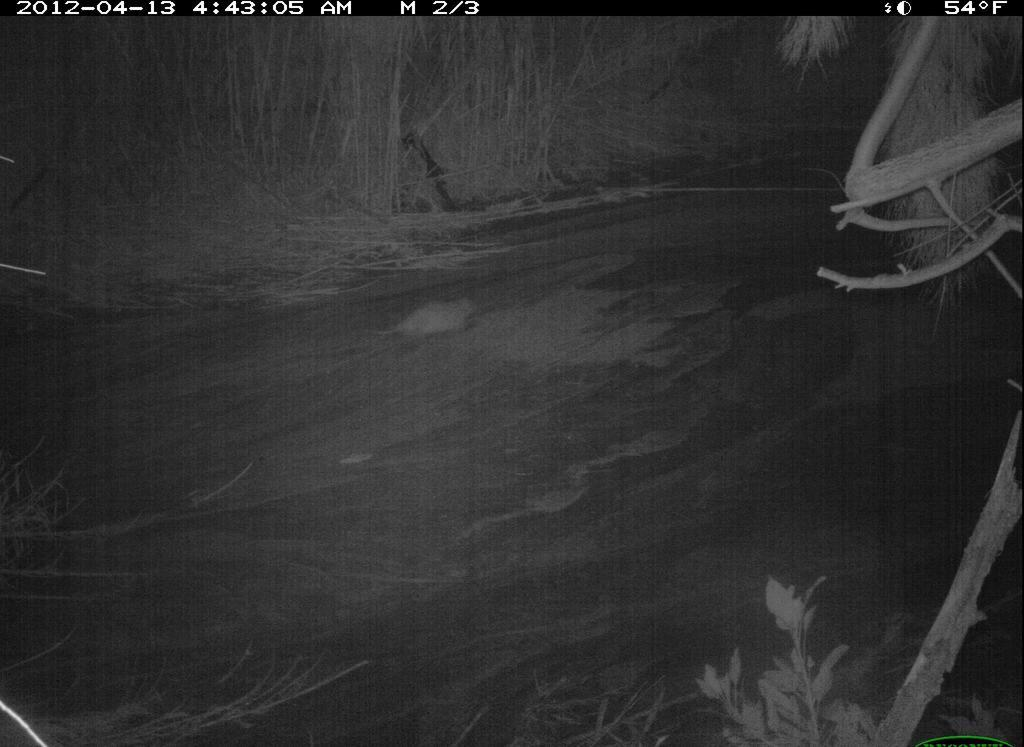opossum: (373, 283, 509, 374)
